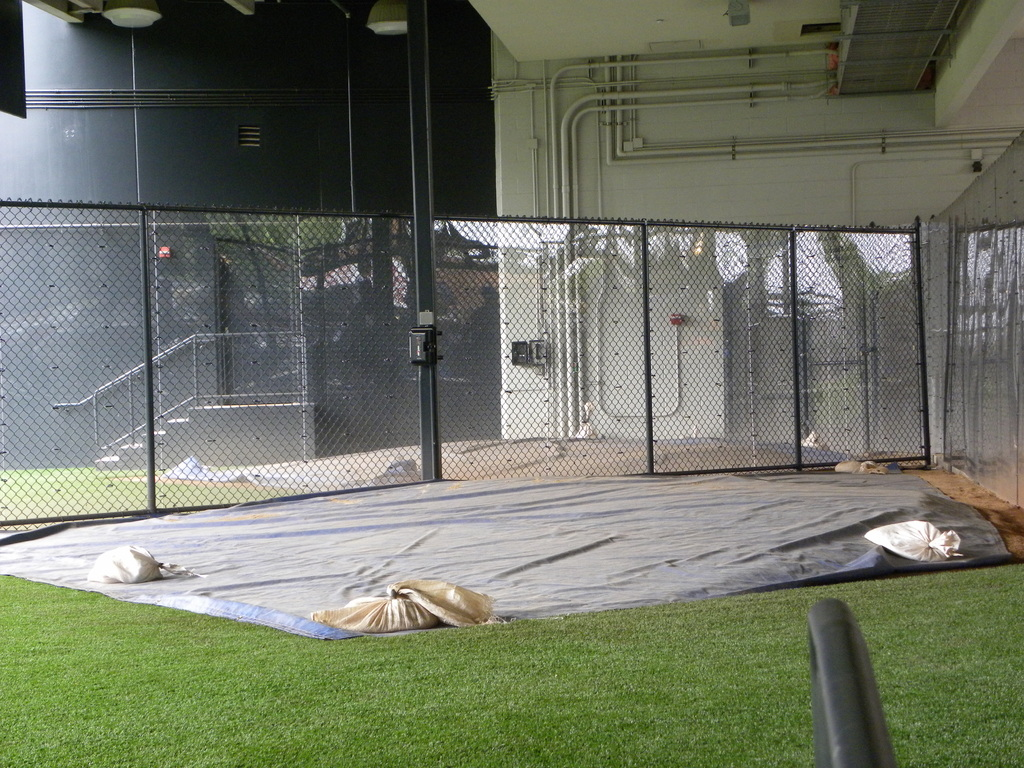person: (464, 281, 498, 382)
